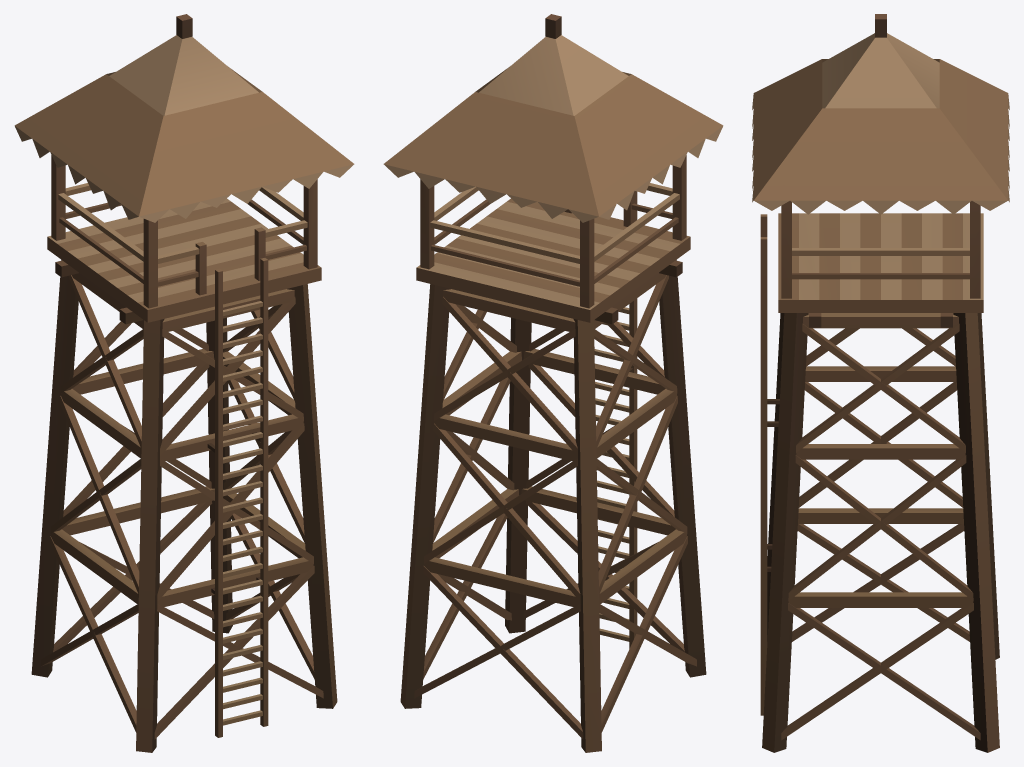
The model's file is custom-torre-observacao.glb.
3 renders of one model, left to right at view 1: azimuth 30°, elevation 25°; view 2: azimuth 150°, elevation 25°; view 3: azimuth 270°, elevation 25°, orthographic. The views are drawn at different scales.
Visible parts, largest first — view 1: torre-observacao; view 2: torre-observacao; view 3: torre-observacao.
Boxes of the visible parts, box(x1,y1,x2,y2) form: torre-observacao: box(14, 14, 354, 752); torre-observacao: box(383, 14, 723, 752); torre-observacao: box(752, 14, 1009, 752).
Size of the model in its own units: 6.28 by 18.46 by 6.28.
